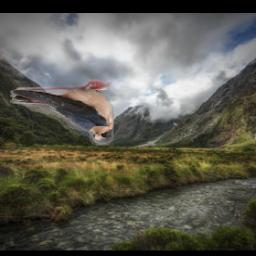Swallow: (10, 80, 114, 147)
